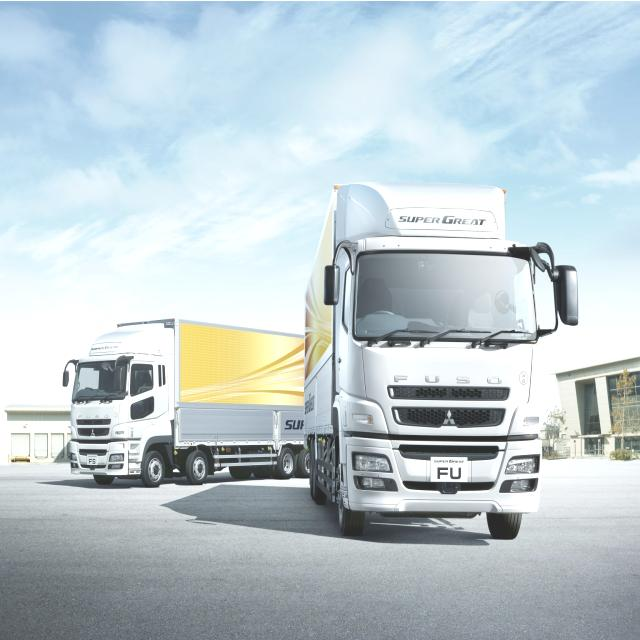truck: (308, 178, 579, 531), (63, 318, 309, 486)
